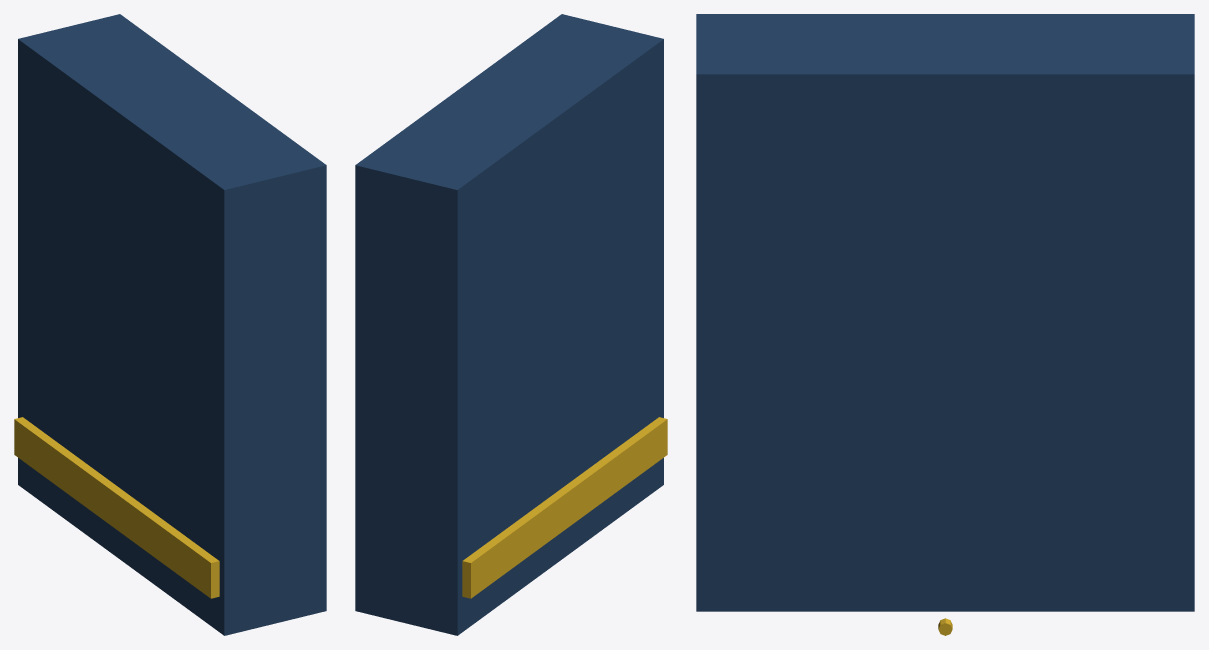
The model's file is security_door.obj.
3 renders of one model, left to right at view 1: azimuth 30°, elevation 25°; view 2: azimuth 150°, elevation 25°; view 3: azimuth 270°, elevation 25°, orthographic. The views are drawn at different scales.
Visible parts, largest first — view 1: security_door; view 2: security_door; view 3: security_door.
Boxes of the visible parts, left/top/right/bottom form: security_door: left=14, top=14, right=326, bottom=635; security_door: left=355, top=14, right=667, bottom=635; security_door: left=696, top=14, right=1194, bottom=635.
Bounding box in the file's own units: 0.26 × 1.09 × 0.84.
